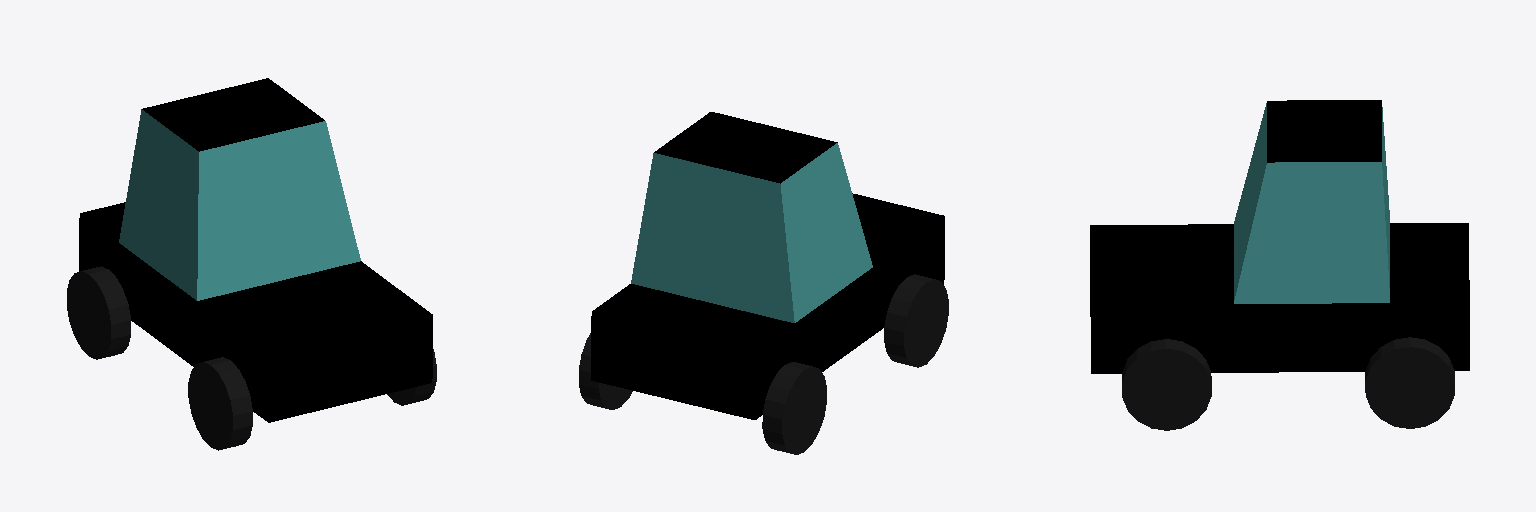
The model's file is kfccarcolor.obj.
The picture shows the model from 3 angles: view 1: azimuth 30°, elevation 25°; view 2: azimuth 150°, elevation 25°; view 3: azimuth 270°, elevation 25°; orthographic projection.
Visible parts, largest first — view 1: group2; view 2: group2; view 3: group2.
Part boxes in pixels (bbox=[...]): group2: bbox=[67, 78, 436, 450]; group2: bbox=[579, 112, 948, 454]; group2: bbox=[1090, 100, 1469, 430].
Bounding box in the file's own units: 6.78 × 7.96 × 10.93.